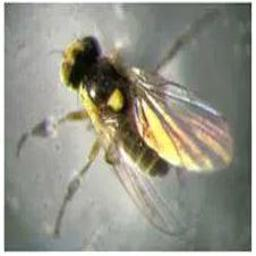liriomyza: (15, 36, 233, 238)
